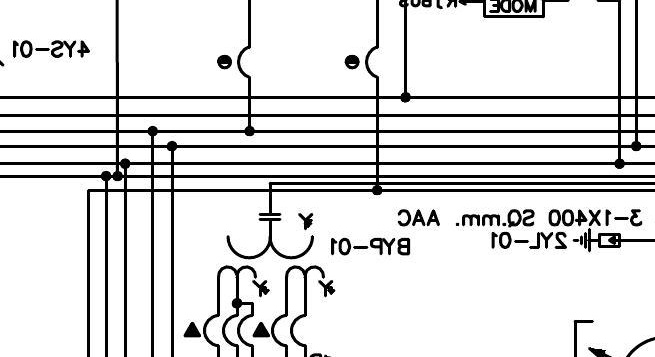115_cvt_3p: (216, 213, 336, 298)
115_la: (572, 227, 621, 253)
